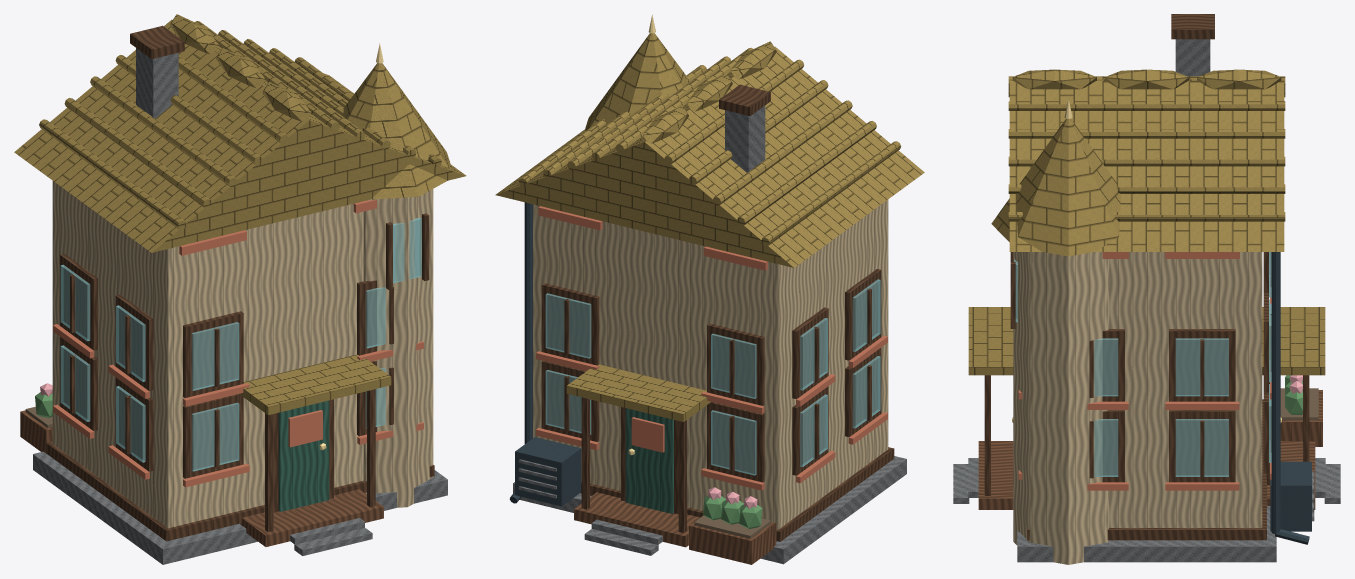
Rendered from house_cottage_lv3_tower.glb.
3 views of the same model, side by side, from view 1: azimuth 30°, elevation 25°; view 2: azimuth 150°, elevation 25°; view 3: azimuth 270°, elevation 25° (orthographic). The views are drawn at different scales.
Visible parts, largest first — view 1: walls, gable_roof, tower, foundation, tower_roof, front_porch_canopy, front_door, front_window_frame.002, front_window_frame, front_deck, floor_trim, front_window_glass.002 (+37 smaller); view 2: walls, gable_roof, back_porch_canopy, tower_roof, foundation, back_door, back_window_frame.003, back_window_frame.002, back_window_frame, back_ac_unit, back_deck, back_window_frame.001 (+41 smaller); view 3: walls, tower, gable_roof, tower_roof, foundation, right_window_frame.001, right_window_frame.003, back_porch_canopy, front_porch_canopy, right_window_glass.003, right_window_glass.001, back_downspout (+29 smaller).
Boxes of the visible parts, left/top/right/bottom form: walls: left=52, top=181, right=363, bottom=528; gable_roof: left=14, top=19, right=466, bottom=252; tower: left=363, top=189, right=433, bottom=507; foundation: left=33, top=451, right=447, bottom=564; tower_roof: left=342, top=63, right=450, bottom=199; front_porch_canopy: left=239, top=354, right=391, bottom=415; front_door: left=278, top=400, right=329, bottom=511; front_window_frame.002: left=183, top=311, right=243, bottom=397; front_window_frame: left=183, top=394, right=243, bottom=478; front_deck: left=240, top=489, right=383, bottom=546; floor_trim: left=46, top=441, right=434, bottom=541; front_window_glass.002: left=191, top=322, right=239, bottom=390; walls: left=533, top=199, right=888, bottom=529; gable_roof: left=495, top=46, right=924, bottom=267; back_porch_canopy: left=566, top=364, right=710, bottom=421; tower_roof: left=585, top=33, right=687, bottom=130; foundation: left=513, top=456, right=906, bottom=564; back_door: left=625, top=408, right=673, bottom=513; back_window_frame.003: left=541, top=283, right=599, bottom=365; back_window_frame.002: left=707, top=323, right=764, bottom=405; back_window_frame: left=707, top=402, right=764, bottom=482; back_ac_unit: left=515, top=437, right=581, bottom=506; back_deck: left=574, top=492, right=699, bottom=547; back_window_frame.001: left=541, top=361, right=599, bottom=441; walls: left=1109, top=252, right=1262, bottom=527; tower: left=1013, top=252, right=1109, bottom=564; gable_roof: left=1009, top=81, right=1284, bottom=251; tower_roof: left=991, top=118, right=1121, bottom=256; foundation: left=1017, top=506, right=1276, bottom=562; right_window_frame.001: left=1169, top=410, right=1235, bottom=482; right_window_frame.003: left=1169, top=329, right=1235, bottom=401; back_porch_canopy: left=1262, top=307, right=1325, bottom=375; front_porch_canopy: left=968, top=307, right=1013, bottom=375; right_window_glass.003: left=1175, top=338, right=1228, bottom=396; right_window_glass.001: left=1175, top=419, right=1228, bottom=476; back_downspout: left=1271, top=252, right=1280, bottom=533.
Bounding box in the file's own units: 3.25 × 4.24 × 3.36.
13 materials, 7 textured.
